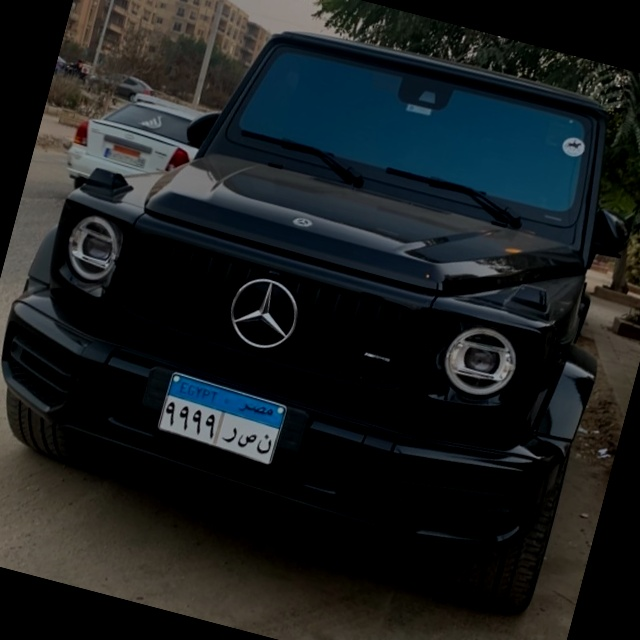License Plate: (153, 370, 289, 468)
